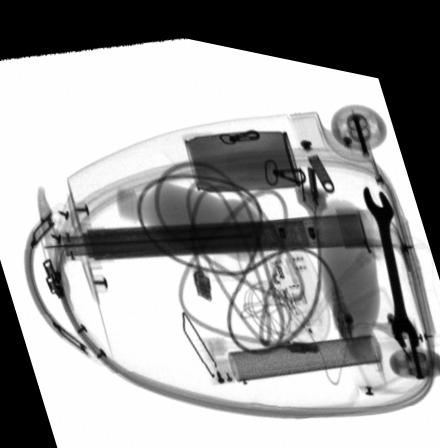Wrench: (364, 171, 420, 335)
